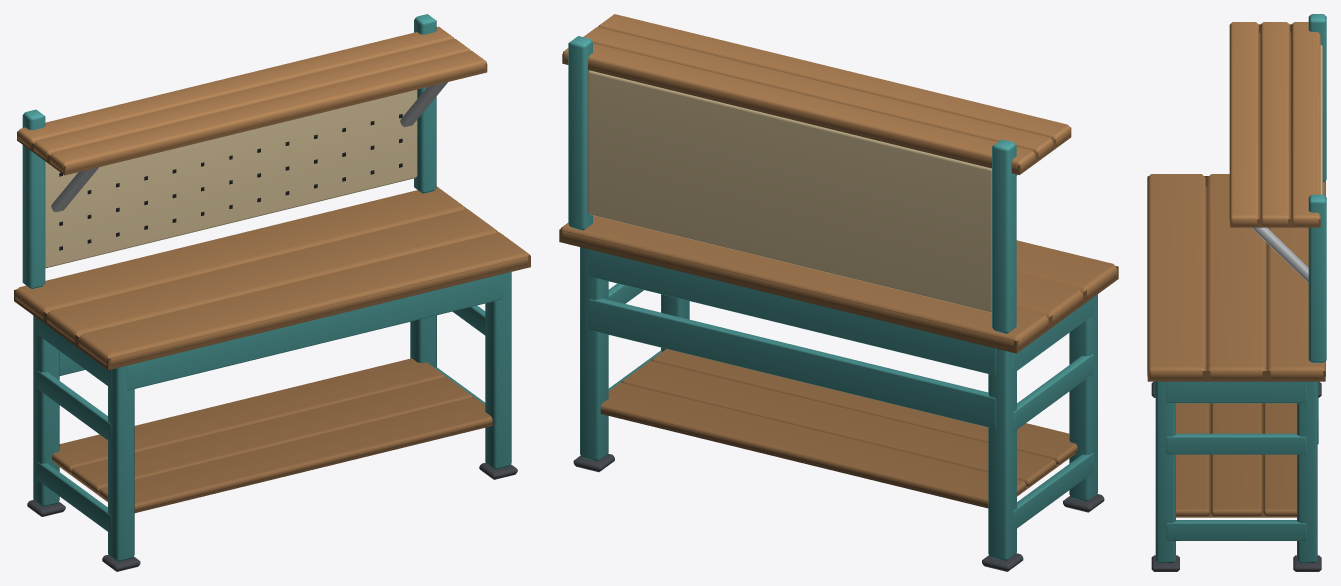
The model's file is SM_Workbench_Backboard_01.glb.
The picture shows the model from 3 angles, left to right: view 1: azimuth 30°, elevation 25°; view 2: azimuth 150°, elevation 25°; view 3: azimuth 270°, elevation 25°; orthographic projection. The views are drawn at different scales.
Parts seen in each view (by area): view 1: SM_Workbench_Backboard_01; view 2: SM_Workbench_Backboard_01; view 3: SM_Workbench_Backboard_01.
Part boxes in pixels (x1,y1,x2,y2): SM_Workbench_Backboard_01: (14, 14, 530, 571); SM_Workbench_Backboard_01: (559, 14, 1118, 571); SM_Workbench_Backboard_01: (1147, 14, 1326, 571).
Size of the model in its own units: 1.8 by 1.6 by 0.697.
1 material, 1 textured.
